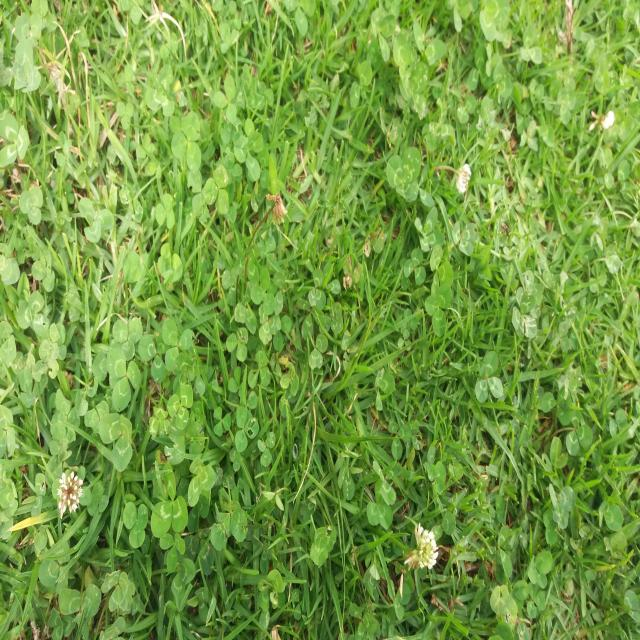Four Leaf Clover: (414, 206, 445, 252)
